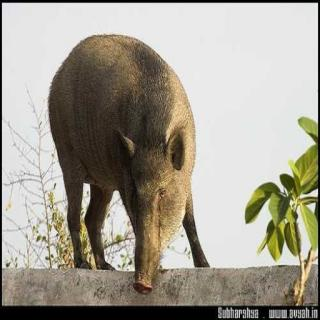Pig: (19, 12, 194, 320)
